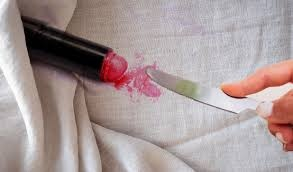lipstick: (120, 56, 164, 107)
